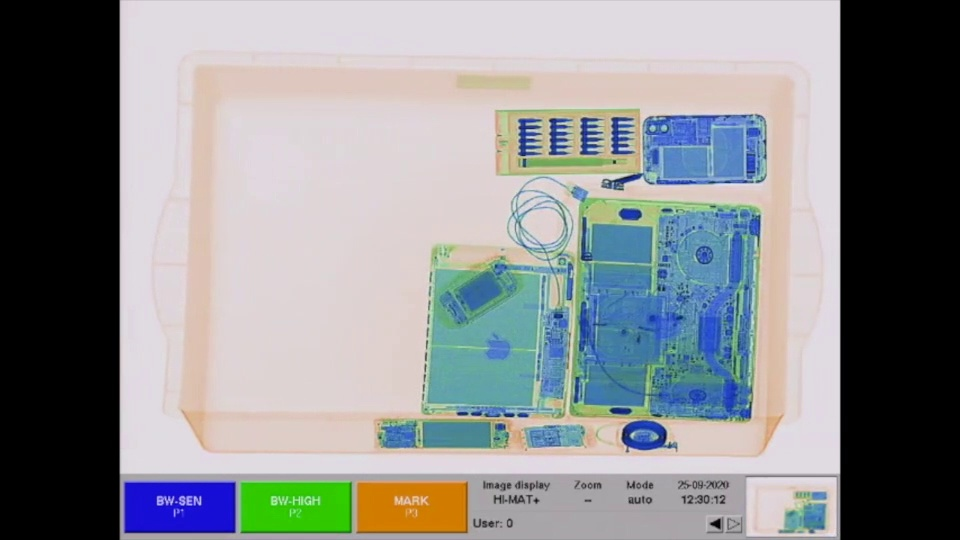tray_img: (147, 45, 828, 460)
